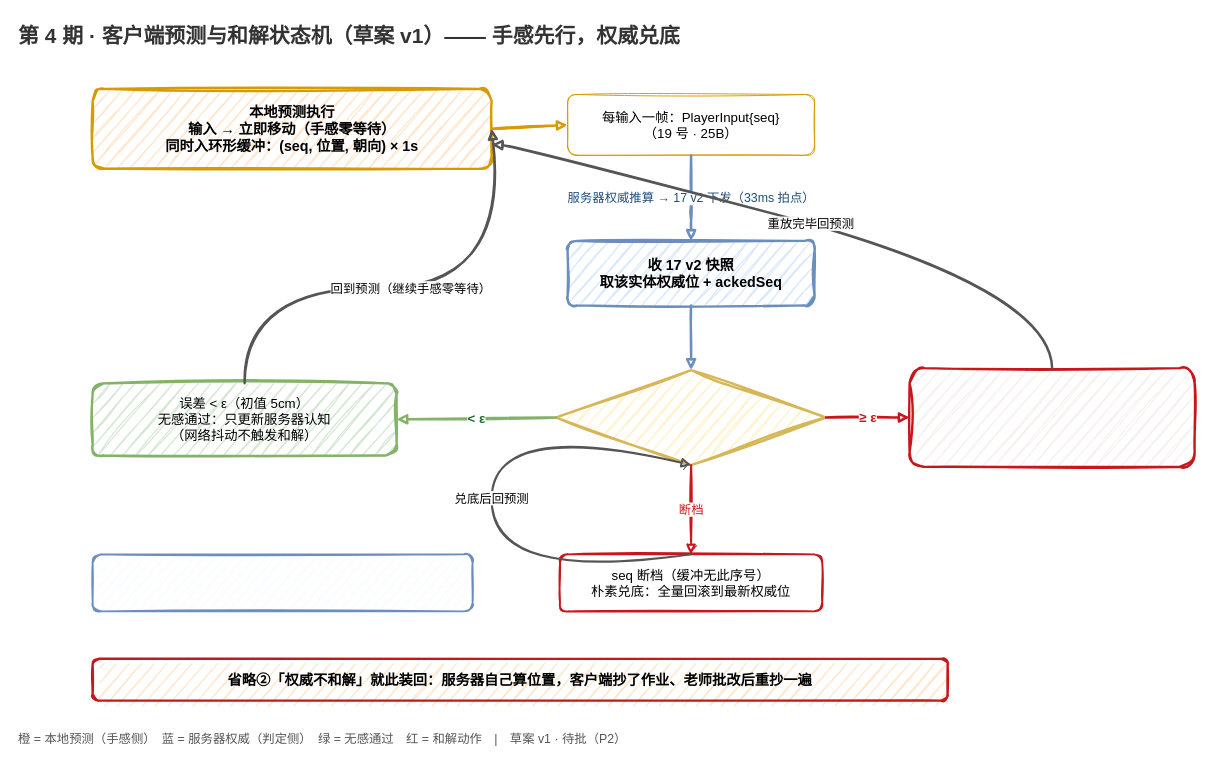
Some shapes in this 1212 by 764 pixel diagram are drawn without their labels. Each missing label, with the centre of its shape:
"Debug HUD 实时观测：预测误差（当前/峰值）· 和解次数 · 重放帧数 · 滑块值 · ackedSeq 差" belongs at point 282,582.
"三方对账 权威位 vs 本地同 seq 预测位" belongs at point 691,417.
"回滚 + 重放（Redo） 1) 摆回权威位 + ackedSeq 2) 重放其后的本地输入 → 恢复现场 3) 和解次数 +1 · HUD 实时可见" belongs at point 1051,417.
